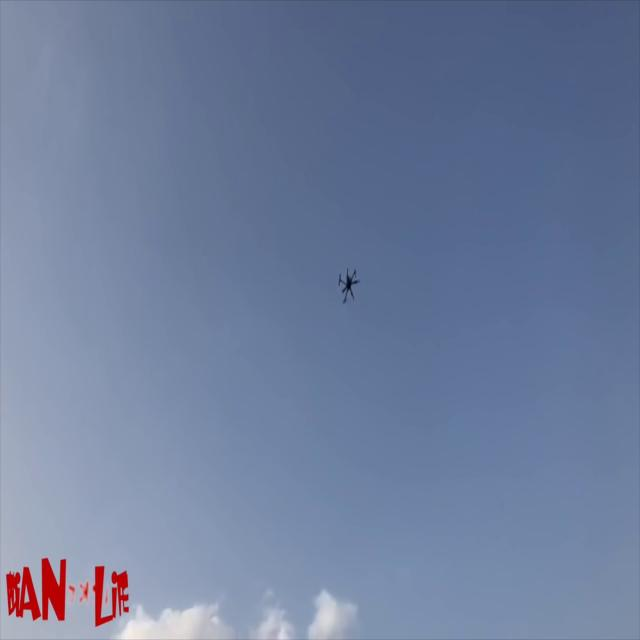drone: (332, 262, 366, 309)
